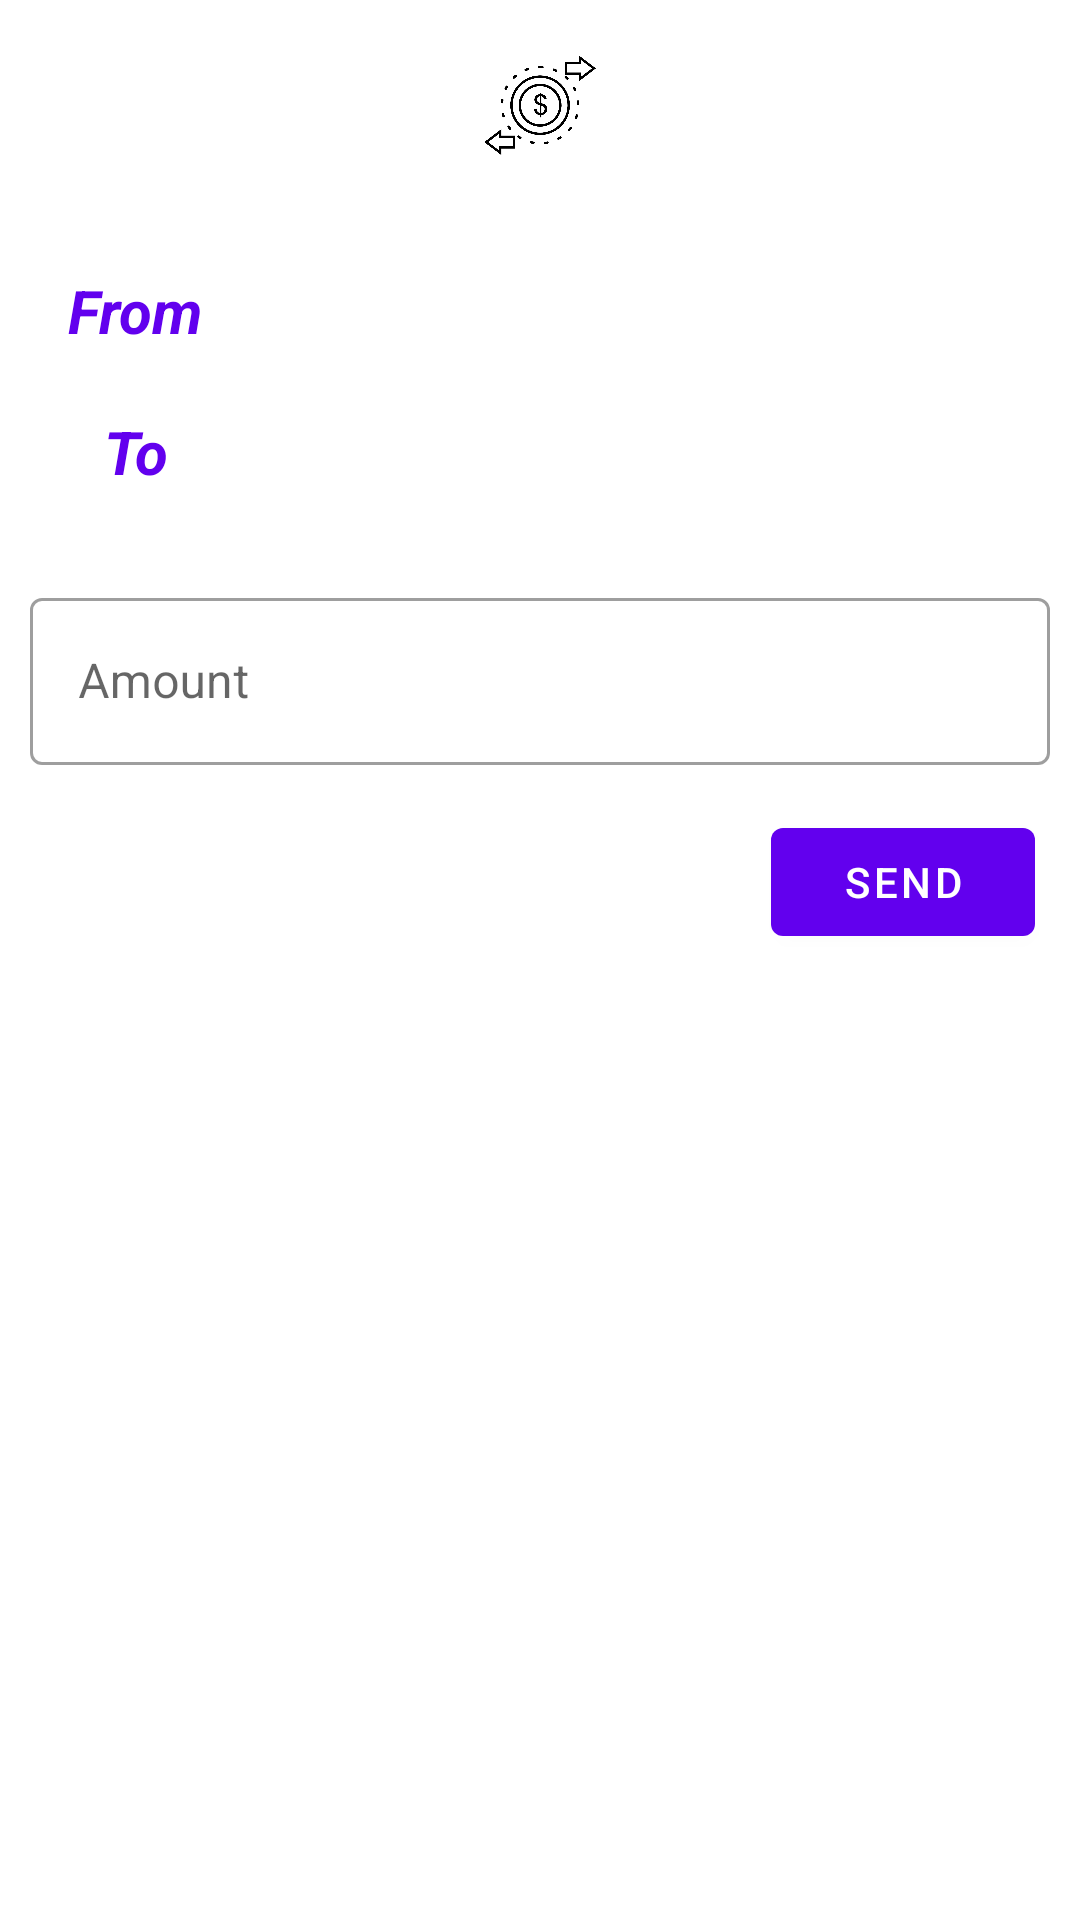

Named icons in this screenshot (1080×1920) and their bounding boxes, box(x1, y1, x2, y2):
Send money: box(485, 56, 596, 155)
